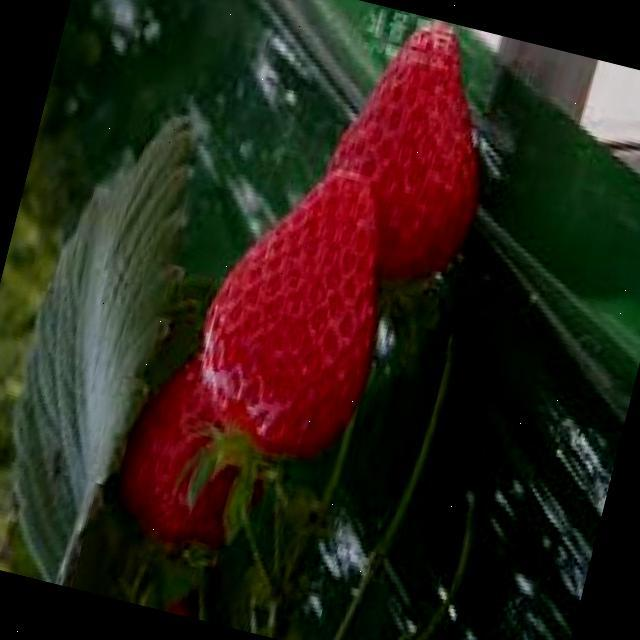ripe: (176, 140, 415, 467), (308, 4, 518, 298)
